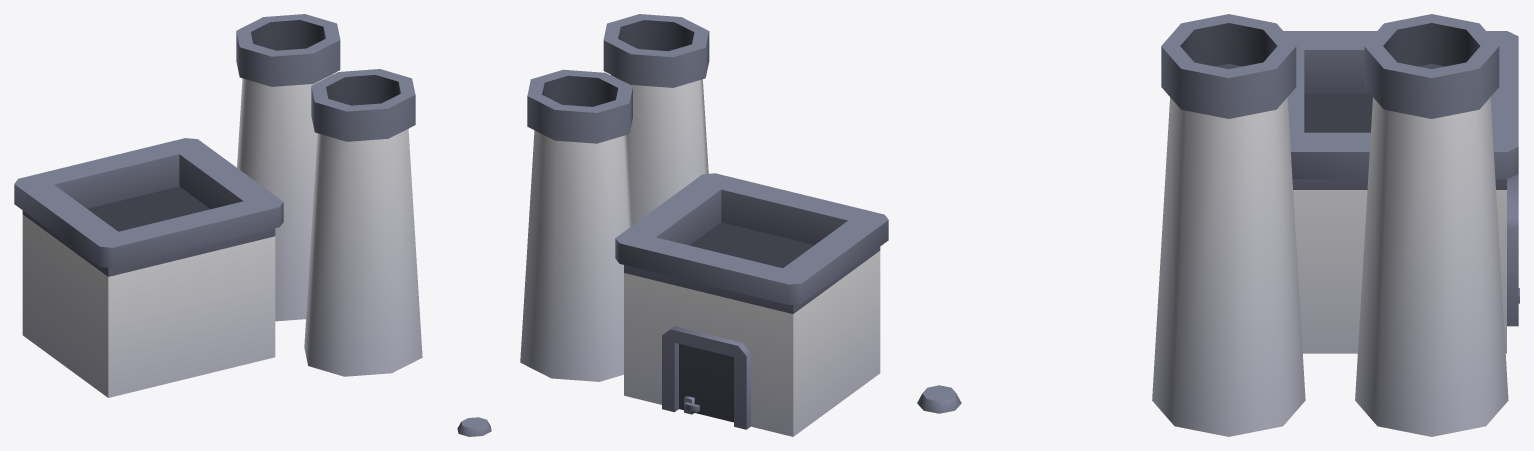
The model's file is industrial-c.glb.
3 renders of one model, left to right at view 1: azimuth 30°, elevation 25°; view 2: azimuth 150°, elevation 25°; view 3: azimuth 270°, elevation 25°, orthographic. The views are drawn at different scales.
Parts seen in each view (by area): view 1: building-c; view 2: building-c; view 3: building-c.
Boxes of the visible parts, x1,y1,x2,y2 form: building-c: [14, 14, 491, 436]; building-c: [520, 14, 888, 436]; building-c: [917, 14, 1519, 436].
Bounding box in the file's own units: 5.01 × 4.16 × 6.41.
Materials: 1 (1 with a texture image).
